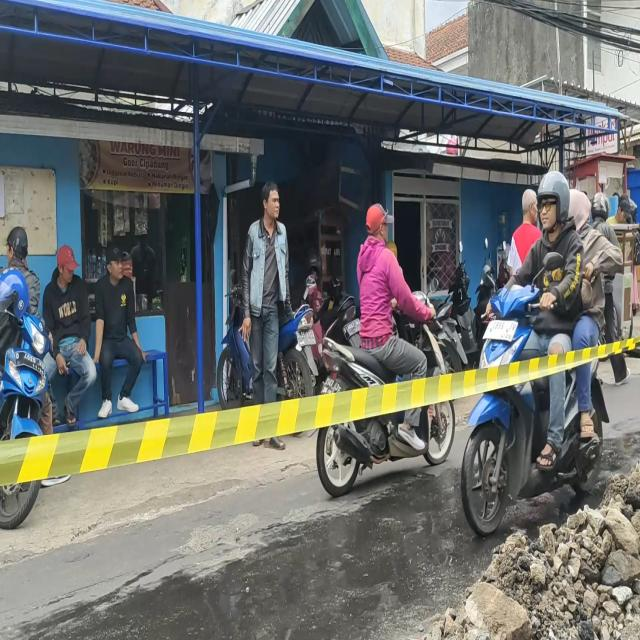helmet: (536, 173, 567, 227)
no-helmet: (570, 187, 593, 231), (368, 206, 388, 244)
